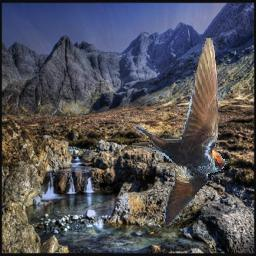Swallow: (133, 37, 228, 227)
